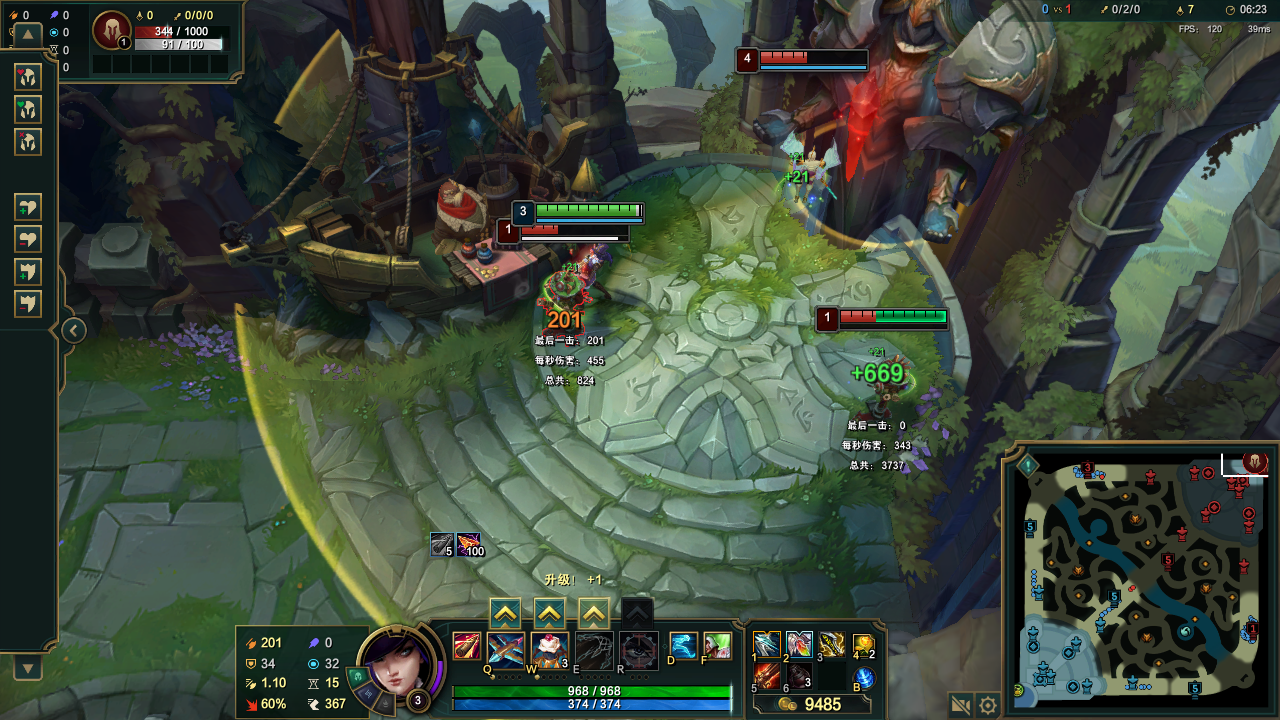DFYX: (759, 48, 868, 65), (522, 226, 630, 236), (835, 311, 877, 324)
